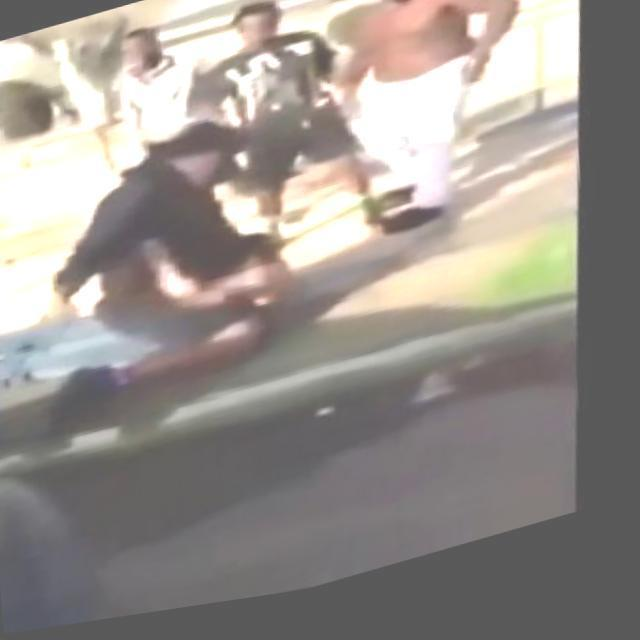fight: (0, 81, 340, 436)
